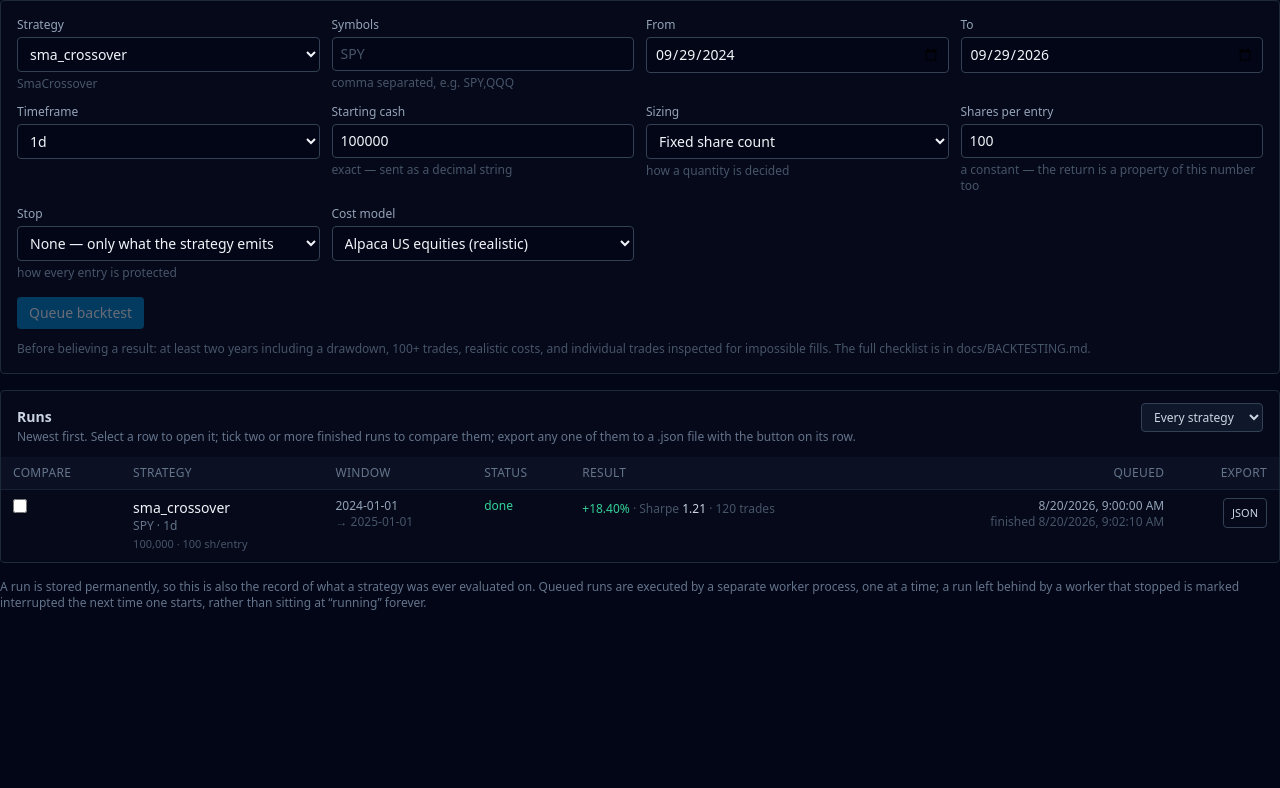
a finished run › renders an unavailable metric as a dash, never as zero
Click the text "2024-01-01".
click(398, 526)  # box [324, 490, 472, 562]
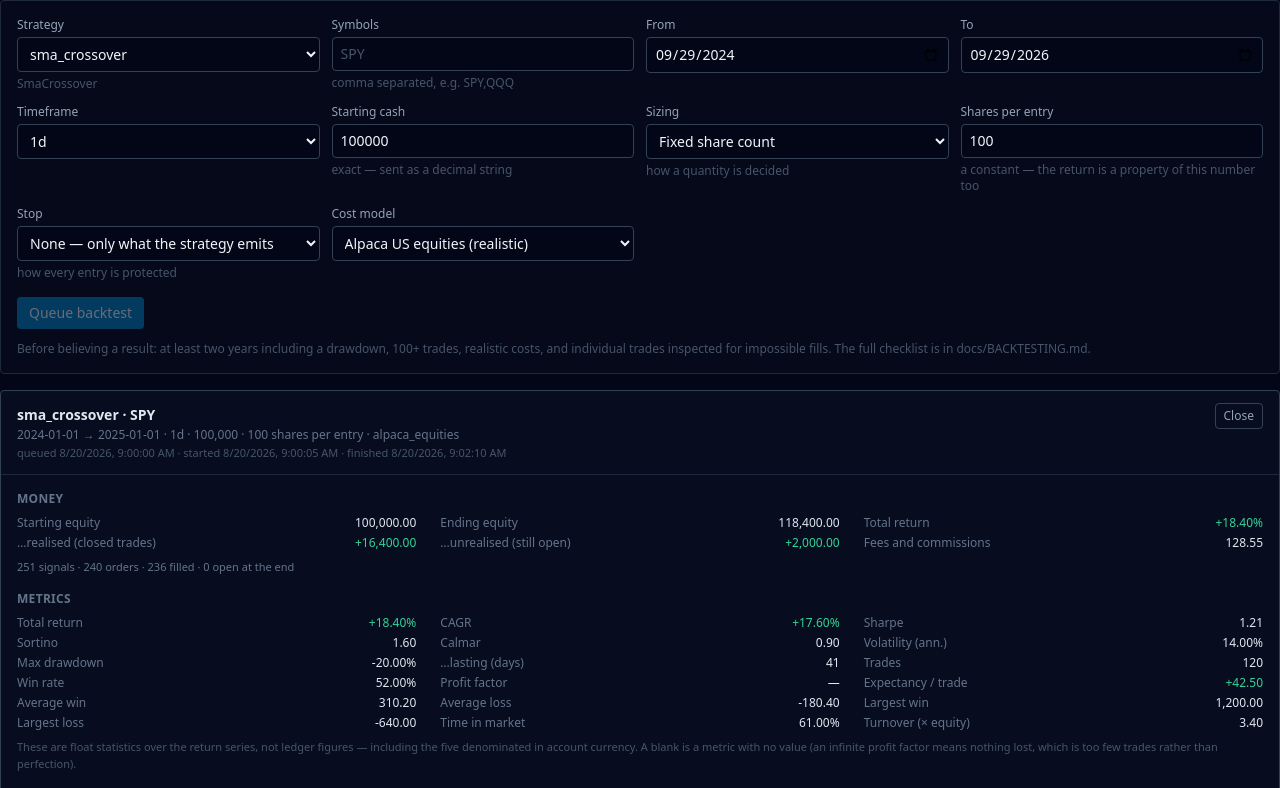
Expected: the text "—" is shown, [828, 675, 840, 691]
